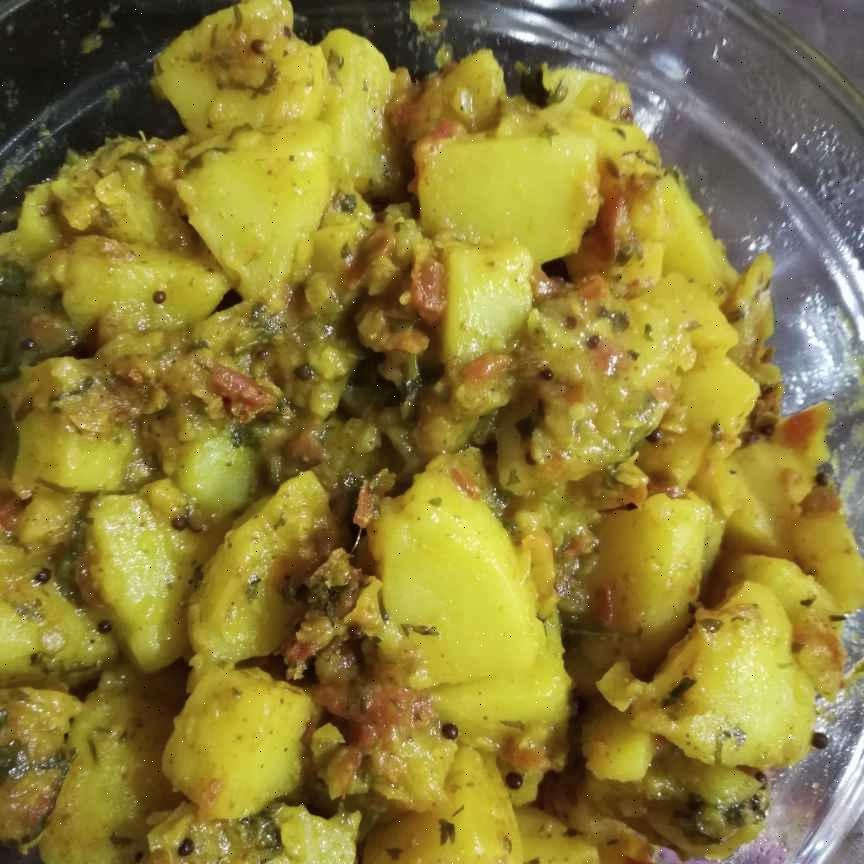aloo sabji: (18, 23, 862, 864)
